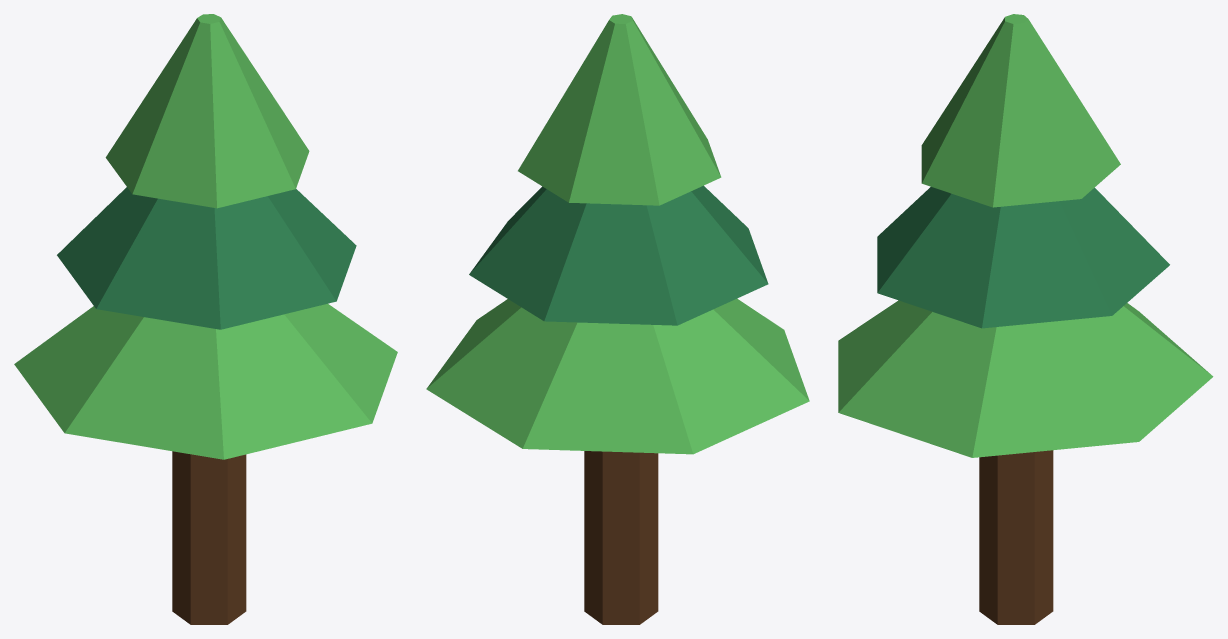
The model's file is mdl_arbol.fbx.
The picture shows the model from 3 angles, left to right: view 1: azimuth 30°, elevation 25°; view 2: azimuth 150°, elevation 25°; view 3: azimuth 270°, elevation 25°; orthographic projection.
Parts seen in each view (by area): view 1: mdl_arbol; view 2: mdl_arbol; view 3: mdl_arbol.
Boxes of the visible parts, x1,y1,x2,y2 form: mdl_arbol: (14, 14, 397, 624); mdl_arbol: (426, 14, 809, 624); mdl_arbol: (838, 14, 1213, 624).
Bounding box in the file's own units: 624 × 1060 × 608.
